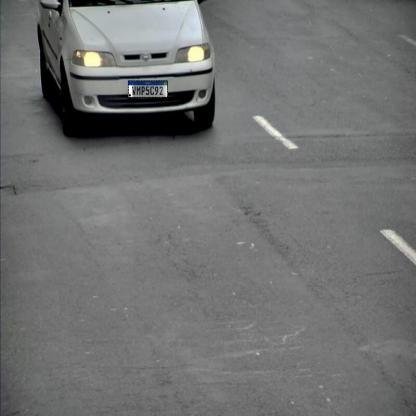PlacaM: (128, 80, 168, 98)
